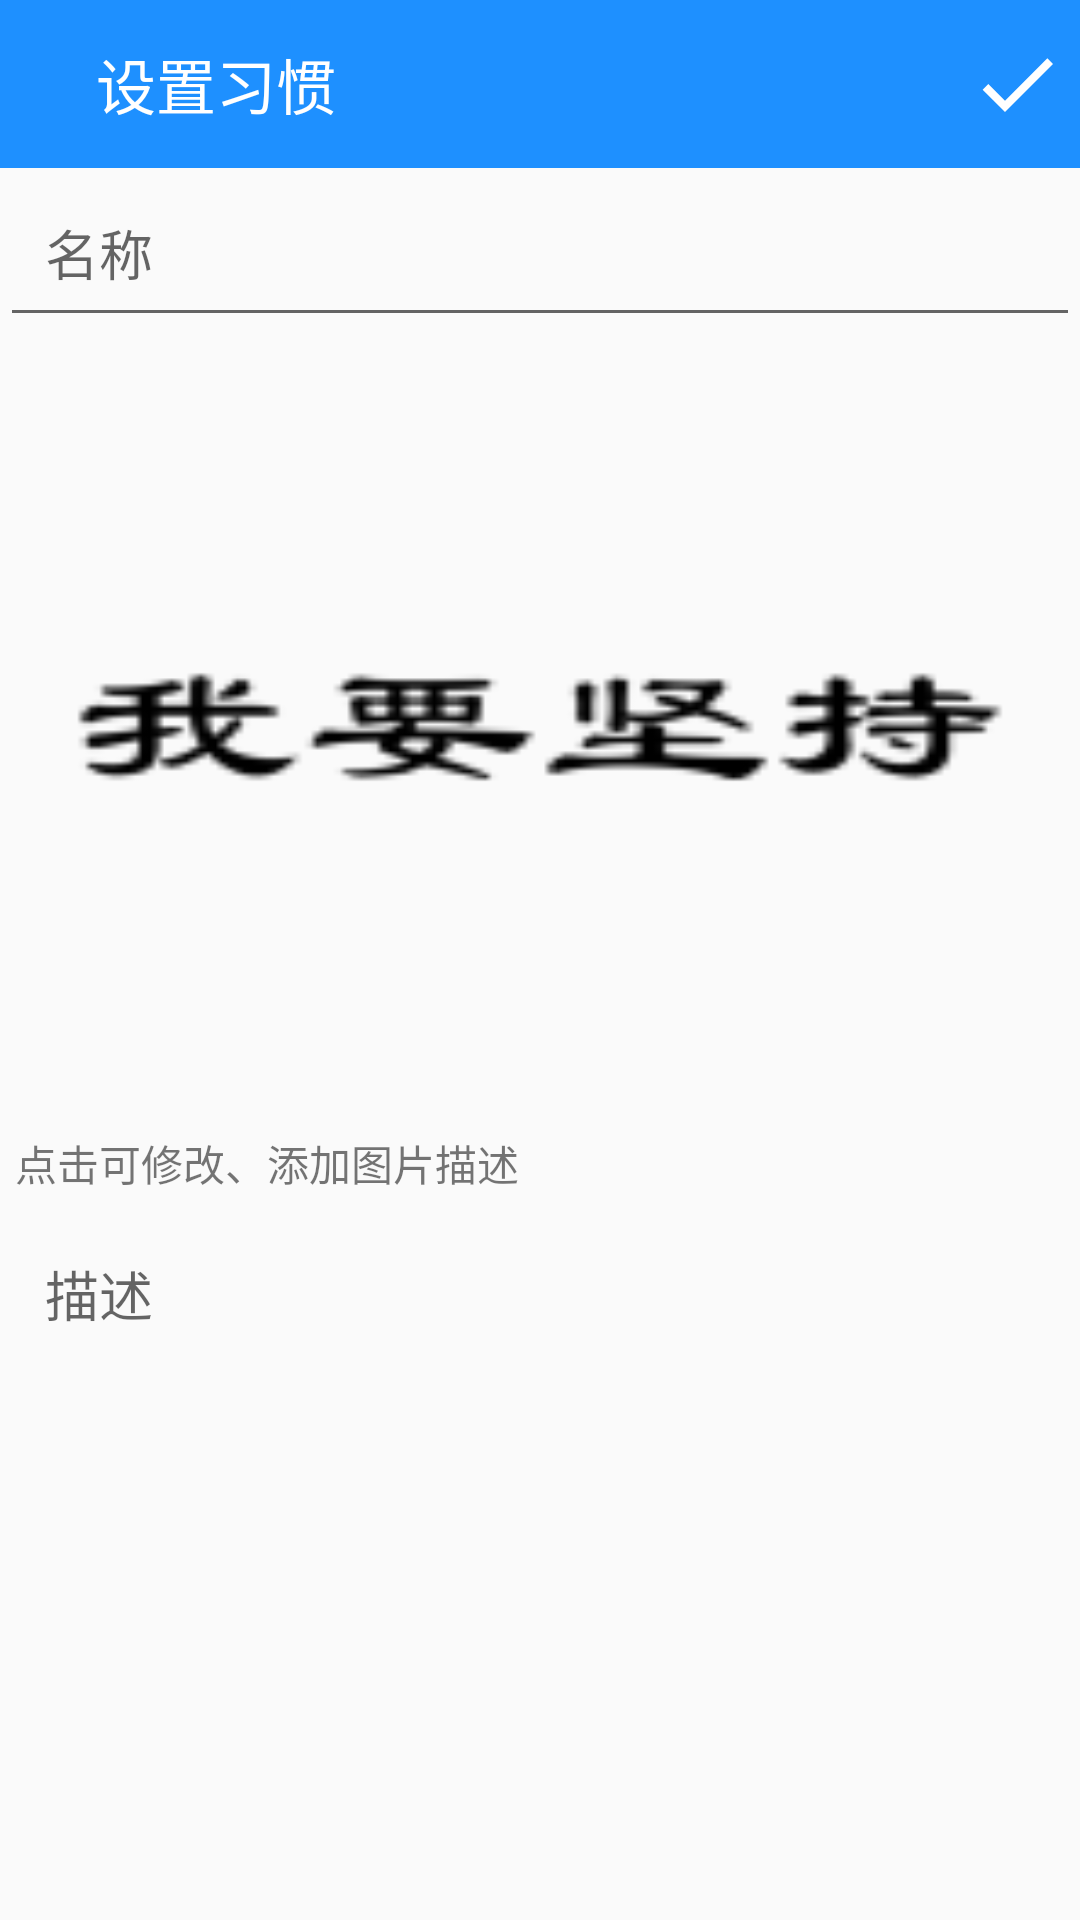

Point at icon controls on the screen. Image size 1080px×1920px, points as (x=x, y=y).
save: (x=1017, y=85)
